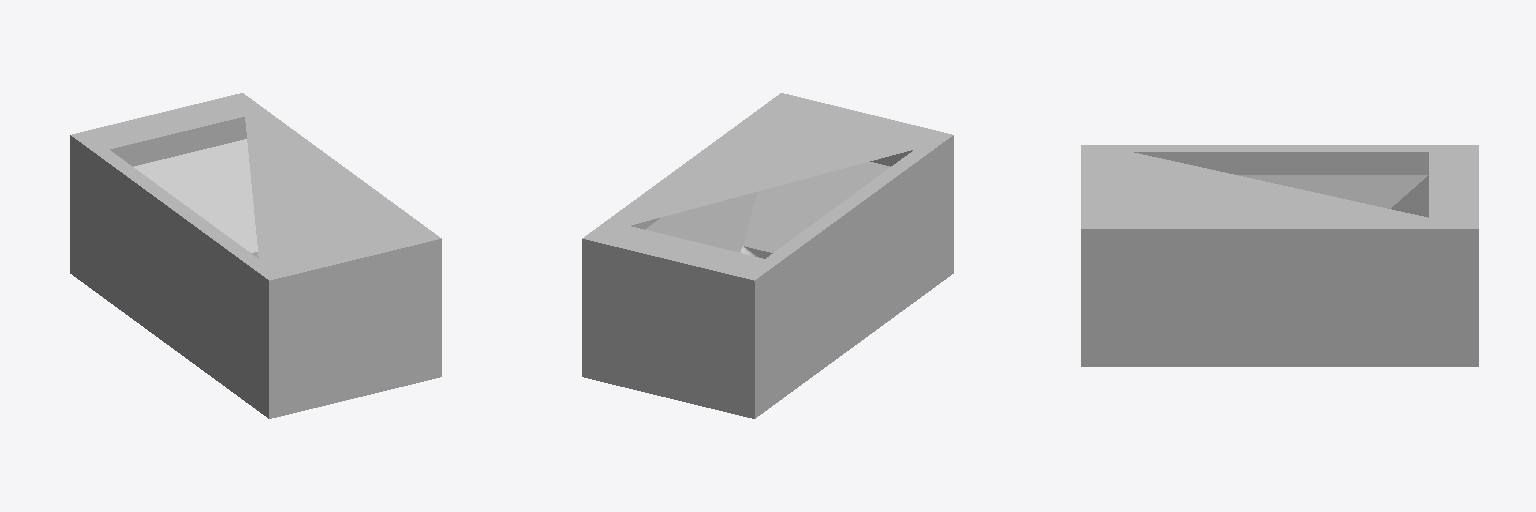
File: fan_tube_salidacople1.obj
The picture shows the model from 3 angles: view 1: azimuth 30°, elevation 25°; view 2: azimuth 150°, elevation 25°; view 3: azimuth 270°, elevation 25°; orthographic projection.
Visible parts, largest first — view 1: Cube.015_Cube.003; view 2: Cube.015_Cube.003; view 3: Cube.015_Cube.003.
Boxes of the visible parts, x1,y1,x2,y2 form: Cube.015_Cube.003: [70, 93, 441, 418]; Cube.015_Cube.003: [582, 93, 953, 418]; Cube.015_Cube.003: [1081, 145, 1478, 366].
Bounding box in the file's own units: 4 × 3.07 × 8.